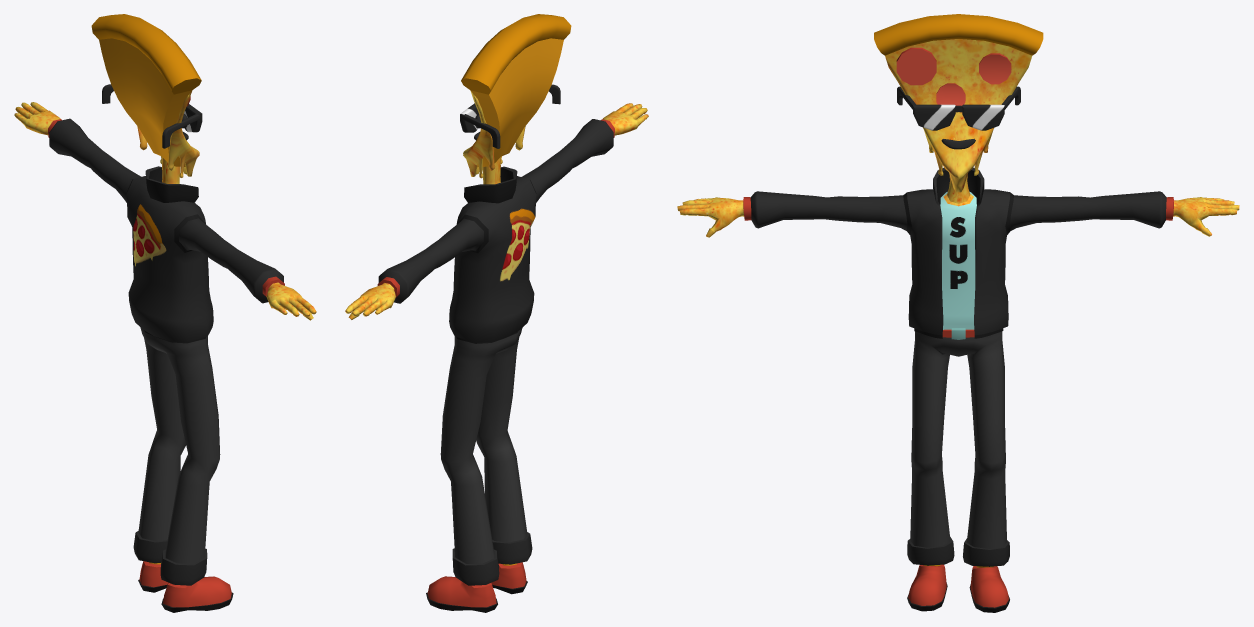
The model's file is asset.glb.
3 renders of one model, left to right at view 1: azimuth 30°, elevation 25°; view 2: azimuth 150°, elevation 25°; view 3: azimuth 270°, elevation 25°, orthographic.
Visible parts, largest first — view 1: _100Avatars_103_CoolPizza; view 2: _100Avatars_103_CoolPizza; view 3: _100Avatars_103_CoolPizza.
Part boxes in pixels (x1=…): _100Avatars_103_CoolPizza: x1=14, y1=14, x2=316, y2=612; _100Avatars_103_CoolPizza: x1=345, y1=14, x2=648, y2=612; _100Avatars_103_CoolPizza: x1=677, y1=14, x2=1239, y2=612.
Size of the model in its own units: 0.8035 by 5.13 by 4.63.
Materials: 1 (1 with a texture image).
